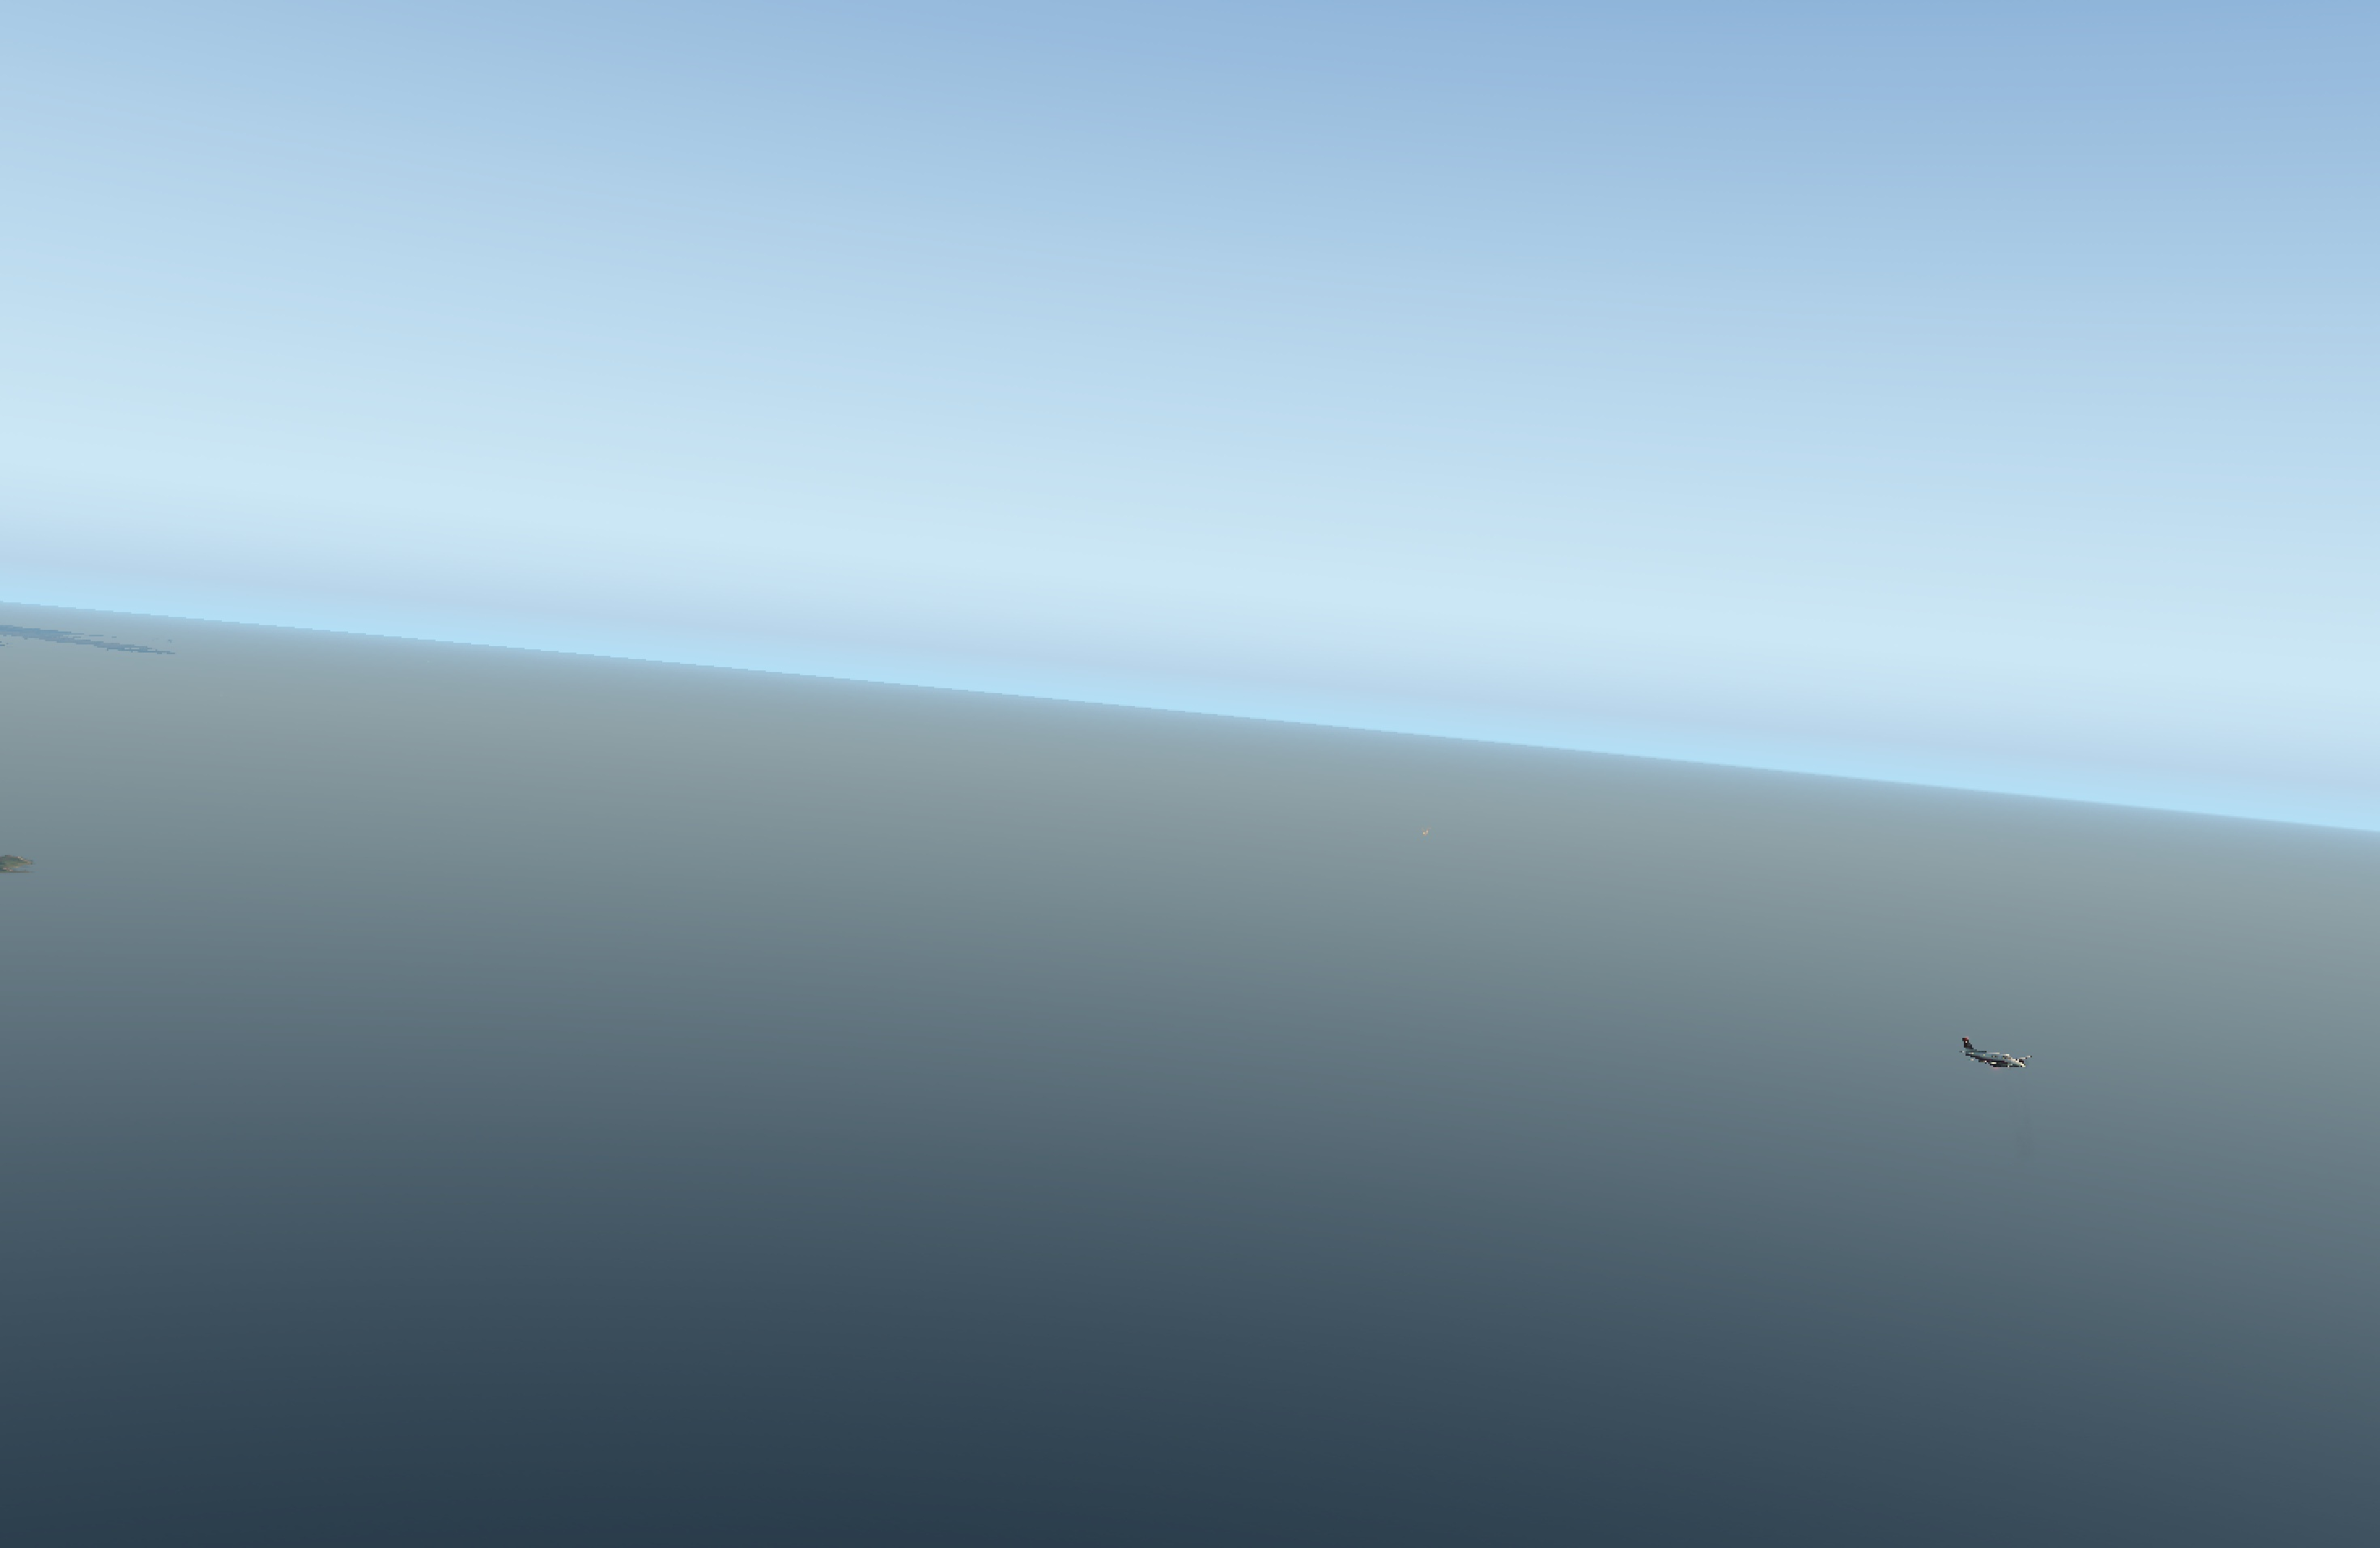aircraft: (1955, 1046, 2050, 1083)
